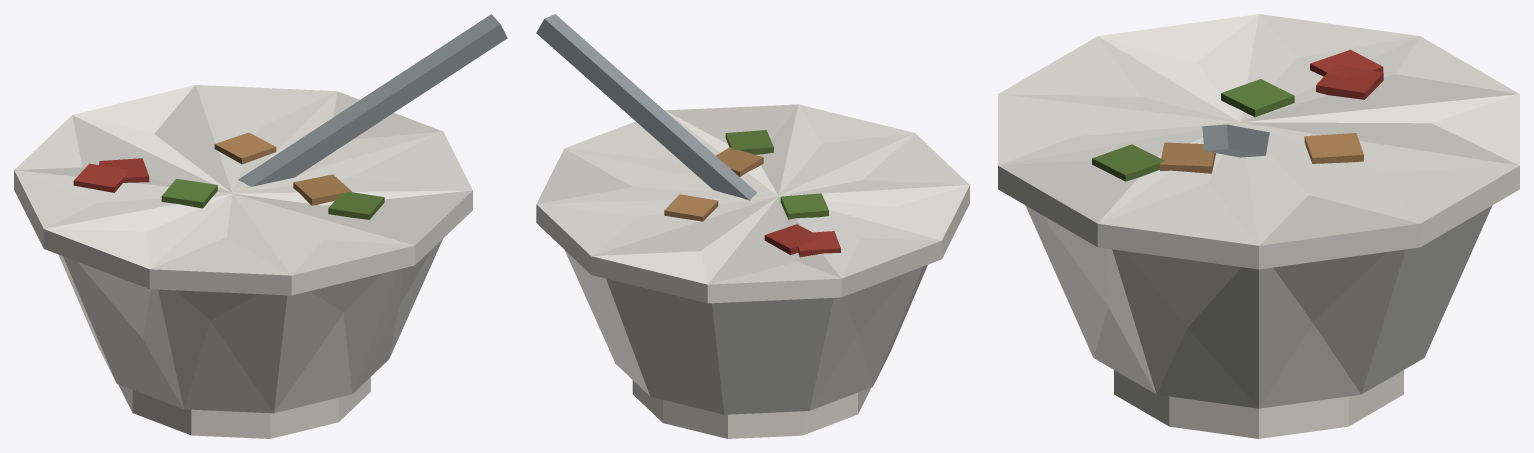
File: meal_soup_ovoschnoy_sup_idle.glb
3 views of the same model, side by side, from view 1: azimuth 30°, elevation 25°; view 2: azimuth 150°, elevation 25°; view 3: azimuth 270°, elevation 25° (orthographic). The views are drawn at different scales.
Visible parts, largest first — view 1: meal_soup_ovoschnoy_sup_idle; view 2: meal_soup_ovoschnoy_sup_idle; view 3: meal_soup_ovoschnoy_sup_idle.
Part boxes in pixels (bbox=[...]): meal_soup_ovoschnoy_sup_idle: bbox=[14, 14, 507, 438]; meal_soup_ovoschnoy_sup_idle: bbox=[536, 14, 969, 438]; meal_soup_ovoschnoy_sup_idle: bbox=[998, 14, 1519, 438].
Size of the model in its own units: 0.1395 by 0.0979 by 0.1198.
Materials: 1 (1 with a texture image).
